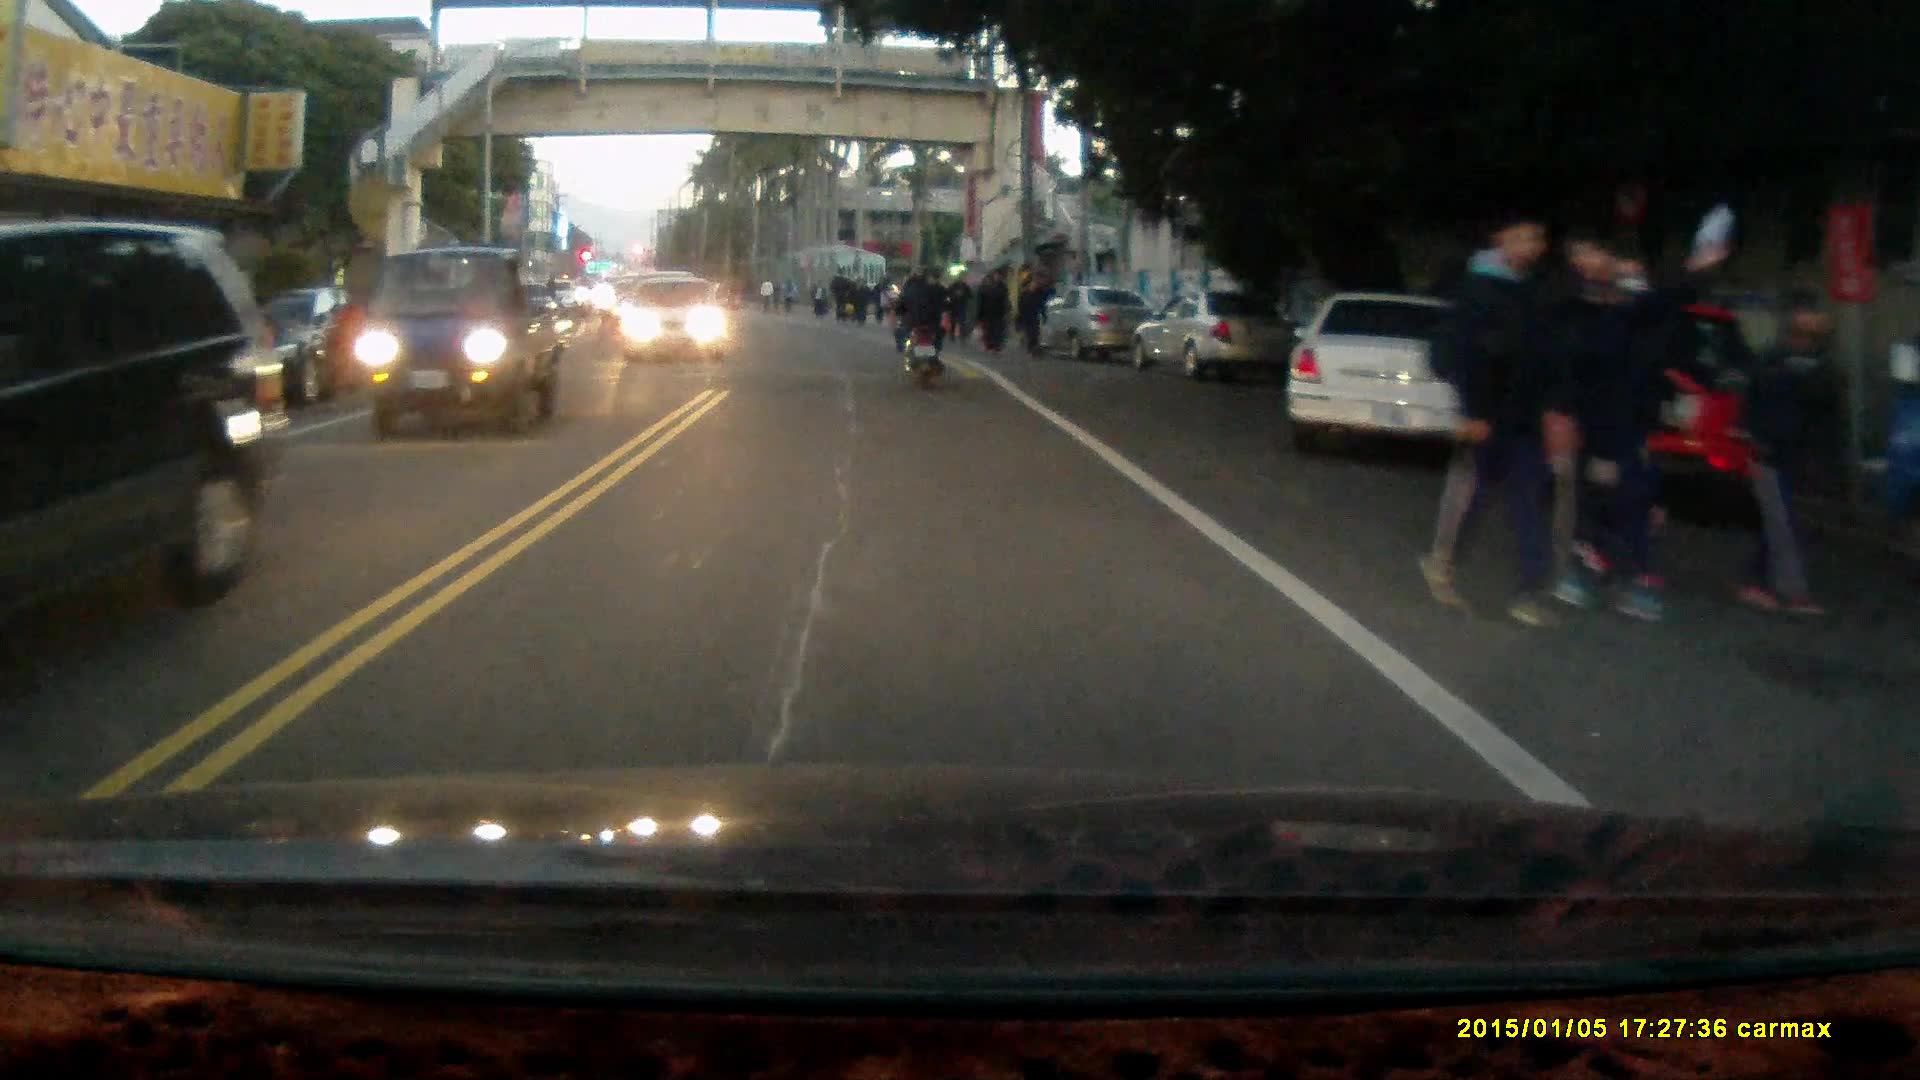pedestrian: (1416, 194, 1584, 630), (1552, 220, 1726, 626), (1730, 286, 1844, 628), (984, 261, 1014, 352), (976, 275, 1004, 362), (1017, 279, 1045, 355), (947, 271, 972, 345)
rider: (884, 261, 949, 388)
vehicle: (1, 216, 290, 634), (350, 247, 578, 444), (1287, 290, 1505, 454), (1139, 290, 1291, 388), (1035, 288, 1161, 366), (624, 279, 727, 364)
